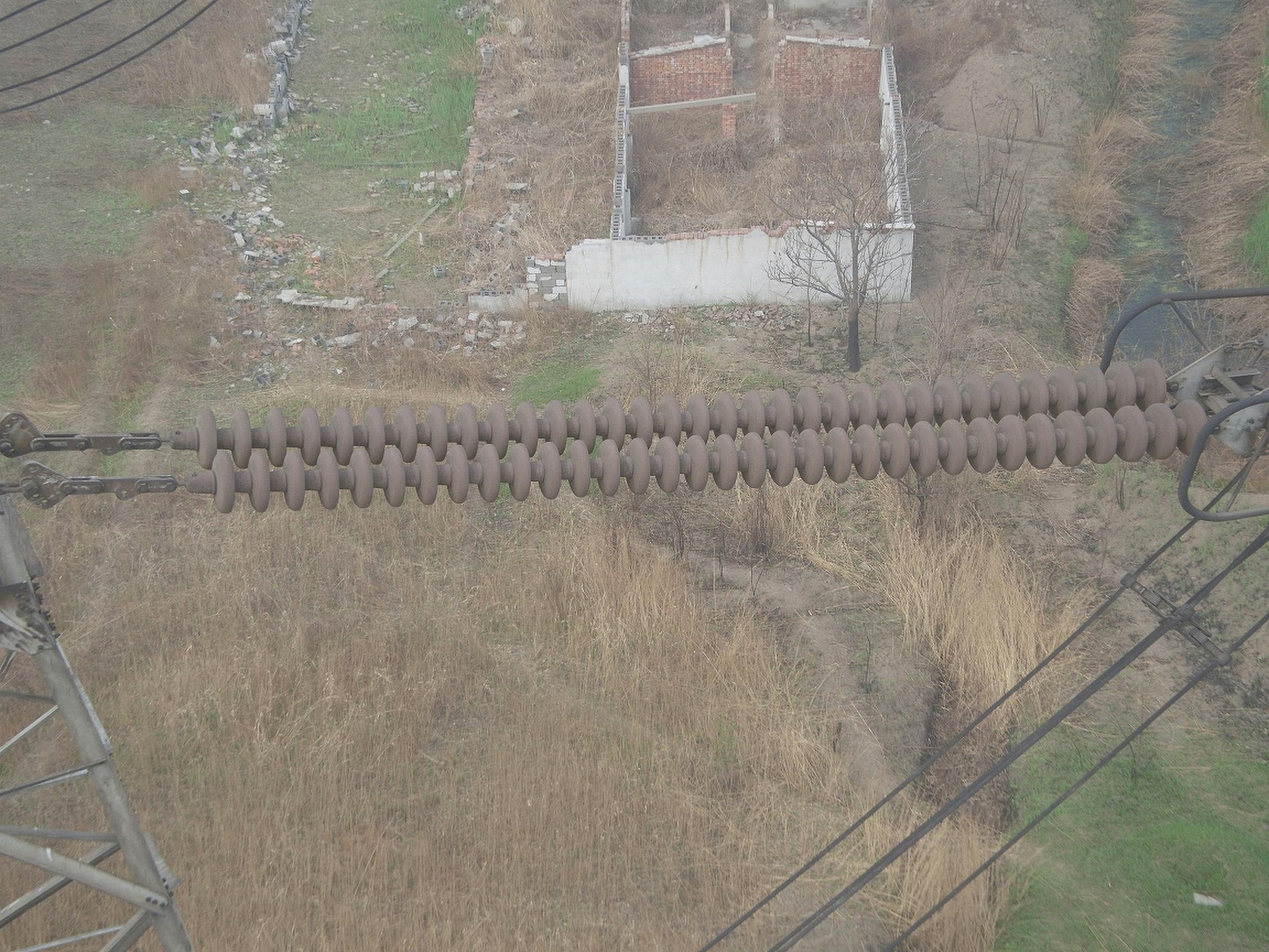insulator: (188, 354, 1217, 518)
